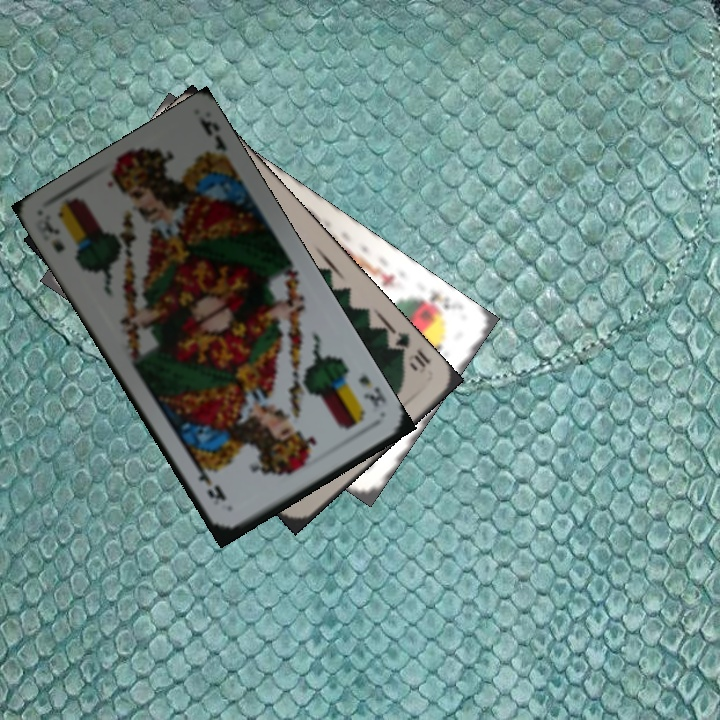EK: (354, 371, 390, 410), (36, 215, 67, 256)
G10: (382, 327, 433, 374)
SK: (425, 287, 461, 313)
